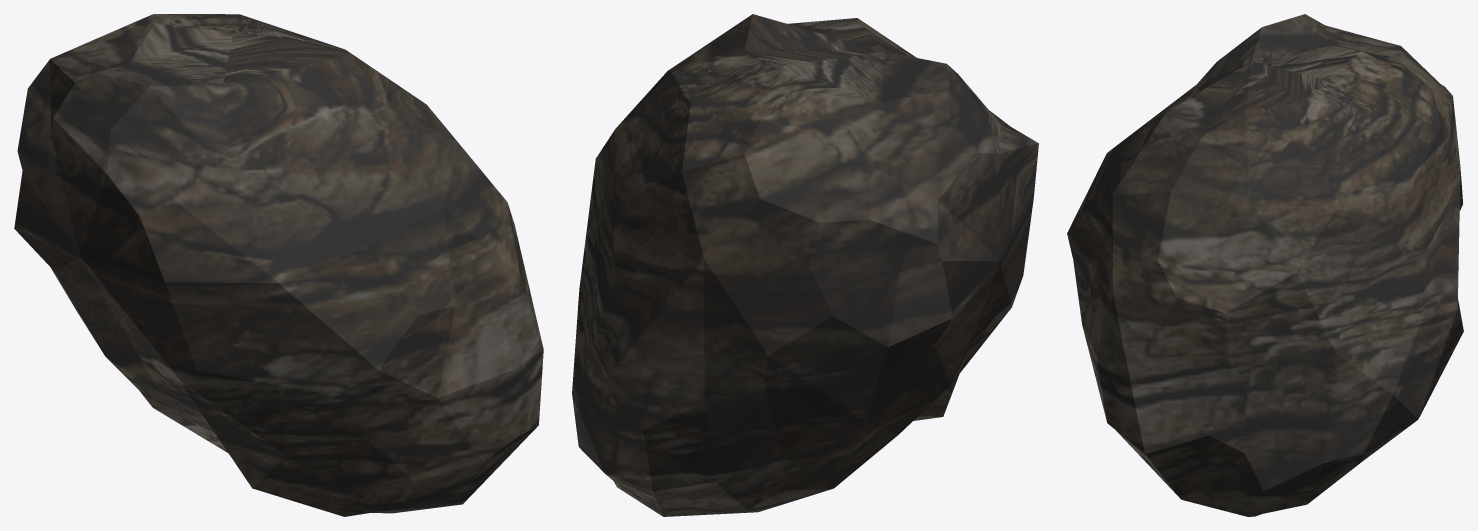
3 views of the same model, side by side, from view 1: azimuth 30°, elevation 25°; view 2: azimuth 150°, elevation 25°; view 3: azimuth 270°, elevation 25° (orthographic). The views are drawn at different scales.
Visible parts, largest first — view 1: AsteroidB2; view 2: AsteroidB2; view 3: AsteroidB2.
Boxes of the visible parts, box(x1,y1,x2,y2) form: AsteroidB2: box(14, 14, 543, 516); AsteroidB2: box(572, 14, 1038, 516); AsteroidB2: box(1067, 14, 1463, 516).
Size of the model in its own units: 1.2 by 1.35 by 1.24.
Materials: 1 (1 with a texture image).
